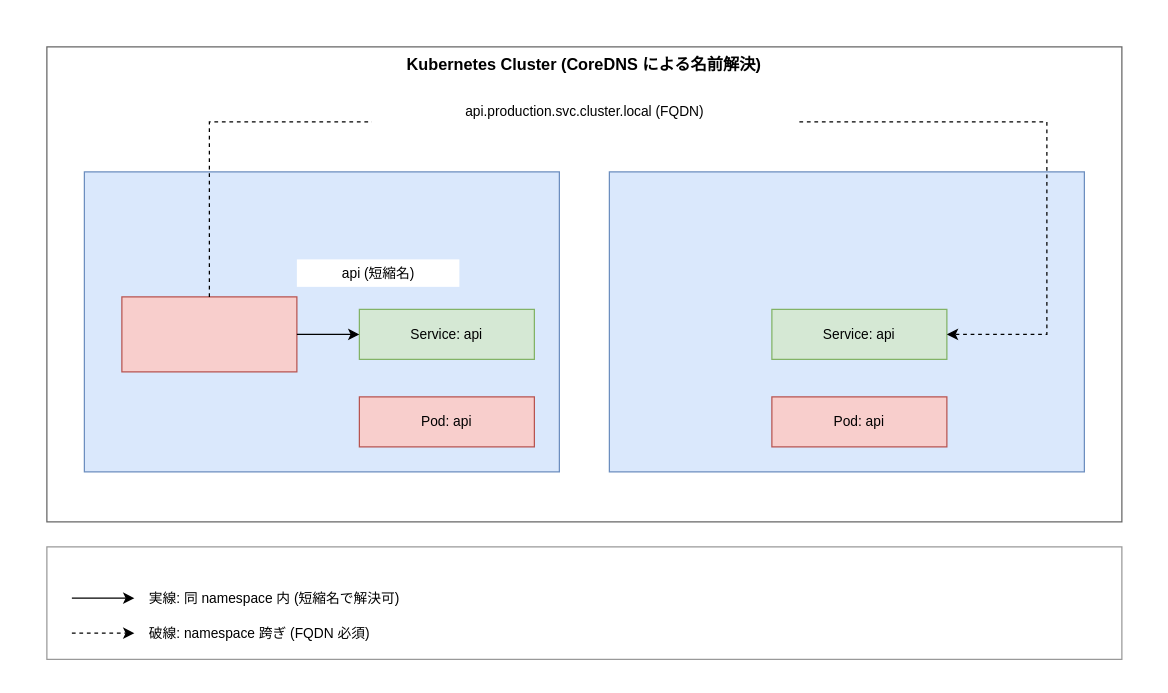
Image size: 1168x693. Some labels were removed from this diagram. Each missing label, with the box of its shape:
Namespace: development: (83, 171, 559, 472)
Namespace: production: (608, 171, 1084, 472)
Pod: caller (クライアント): (121, 296, 297, 372)
凡例: (46, 546, 1122, 659)
